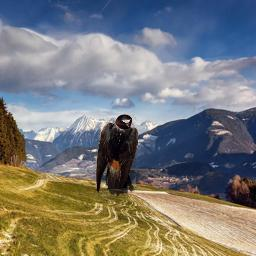Swallow: (95, 114, 138, 197)
